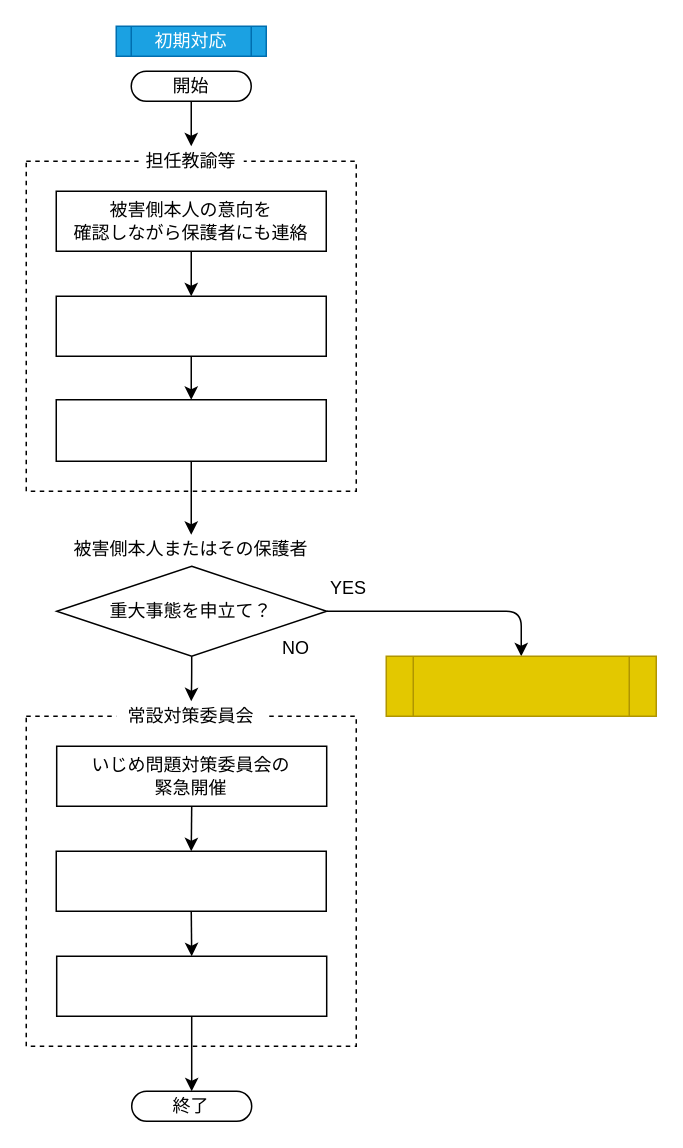
The diagram is 683 pixels wide and 1148 high, and some of its shapes have lost their labels. Here are the shapes that lost their labels. From the top down, the centre of each, then its label:
At [190,325]: "被害側の本人及び保護者に 当フローを説明する".
At [190,429]: "担任教諭による対応".
At [520,685]: "重大事態の対応".
At [190,880]: "いじめの疑いに関する情報の 収集・記録".
At [191,985]: "すべての記録物を 当事者とその保護者に共有".
